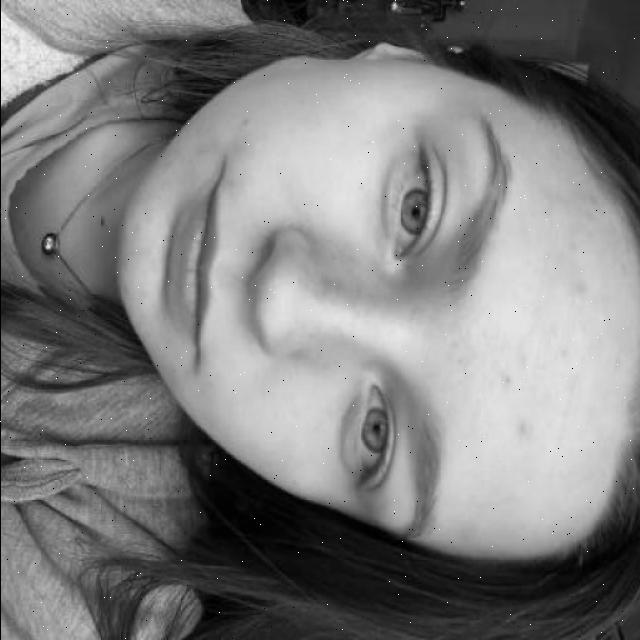Acne: (502, 268, 587, 454)
